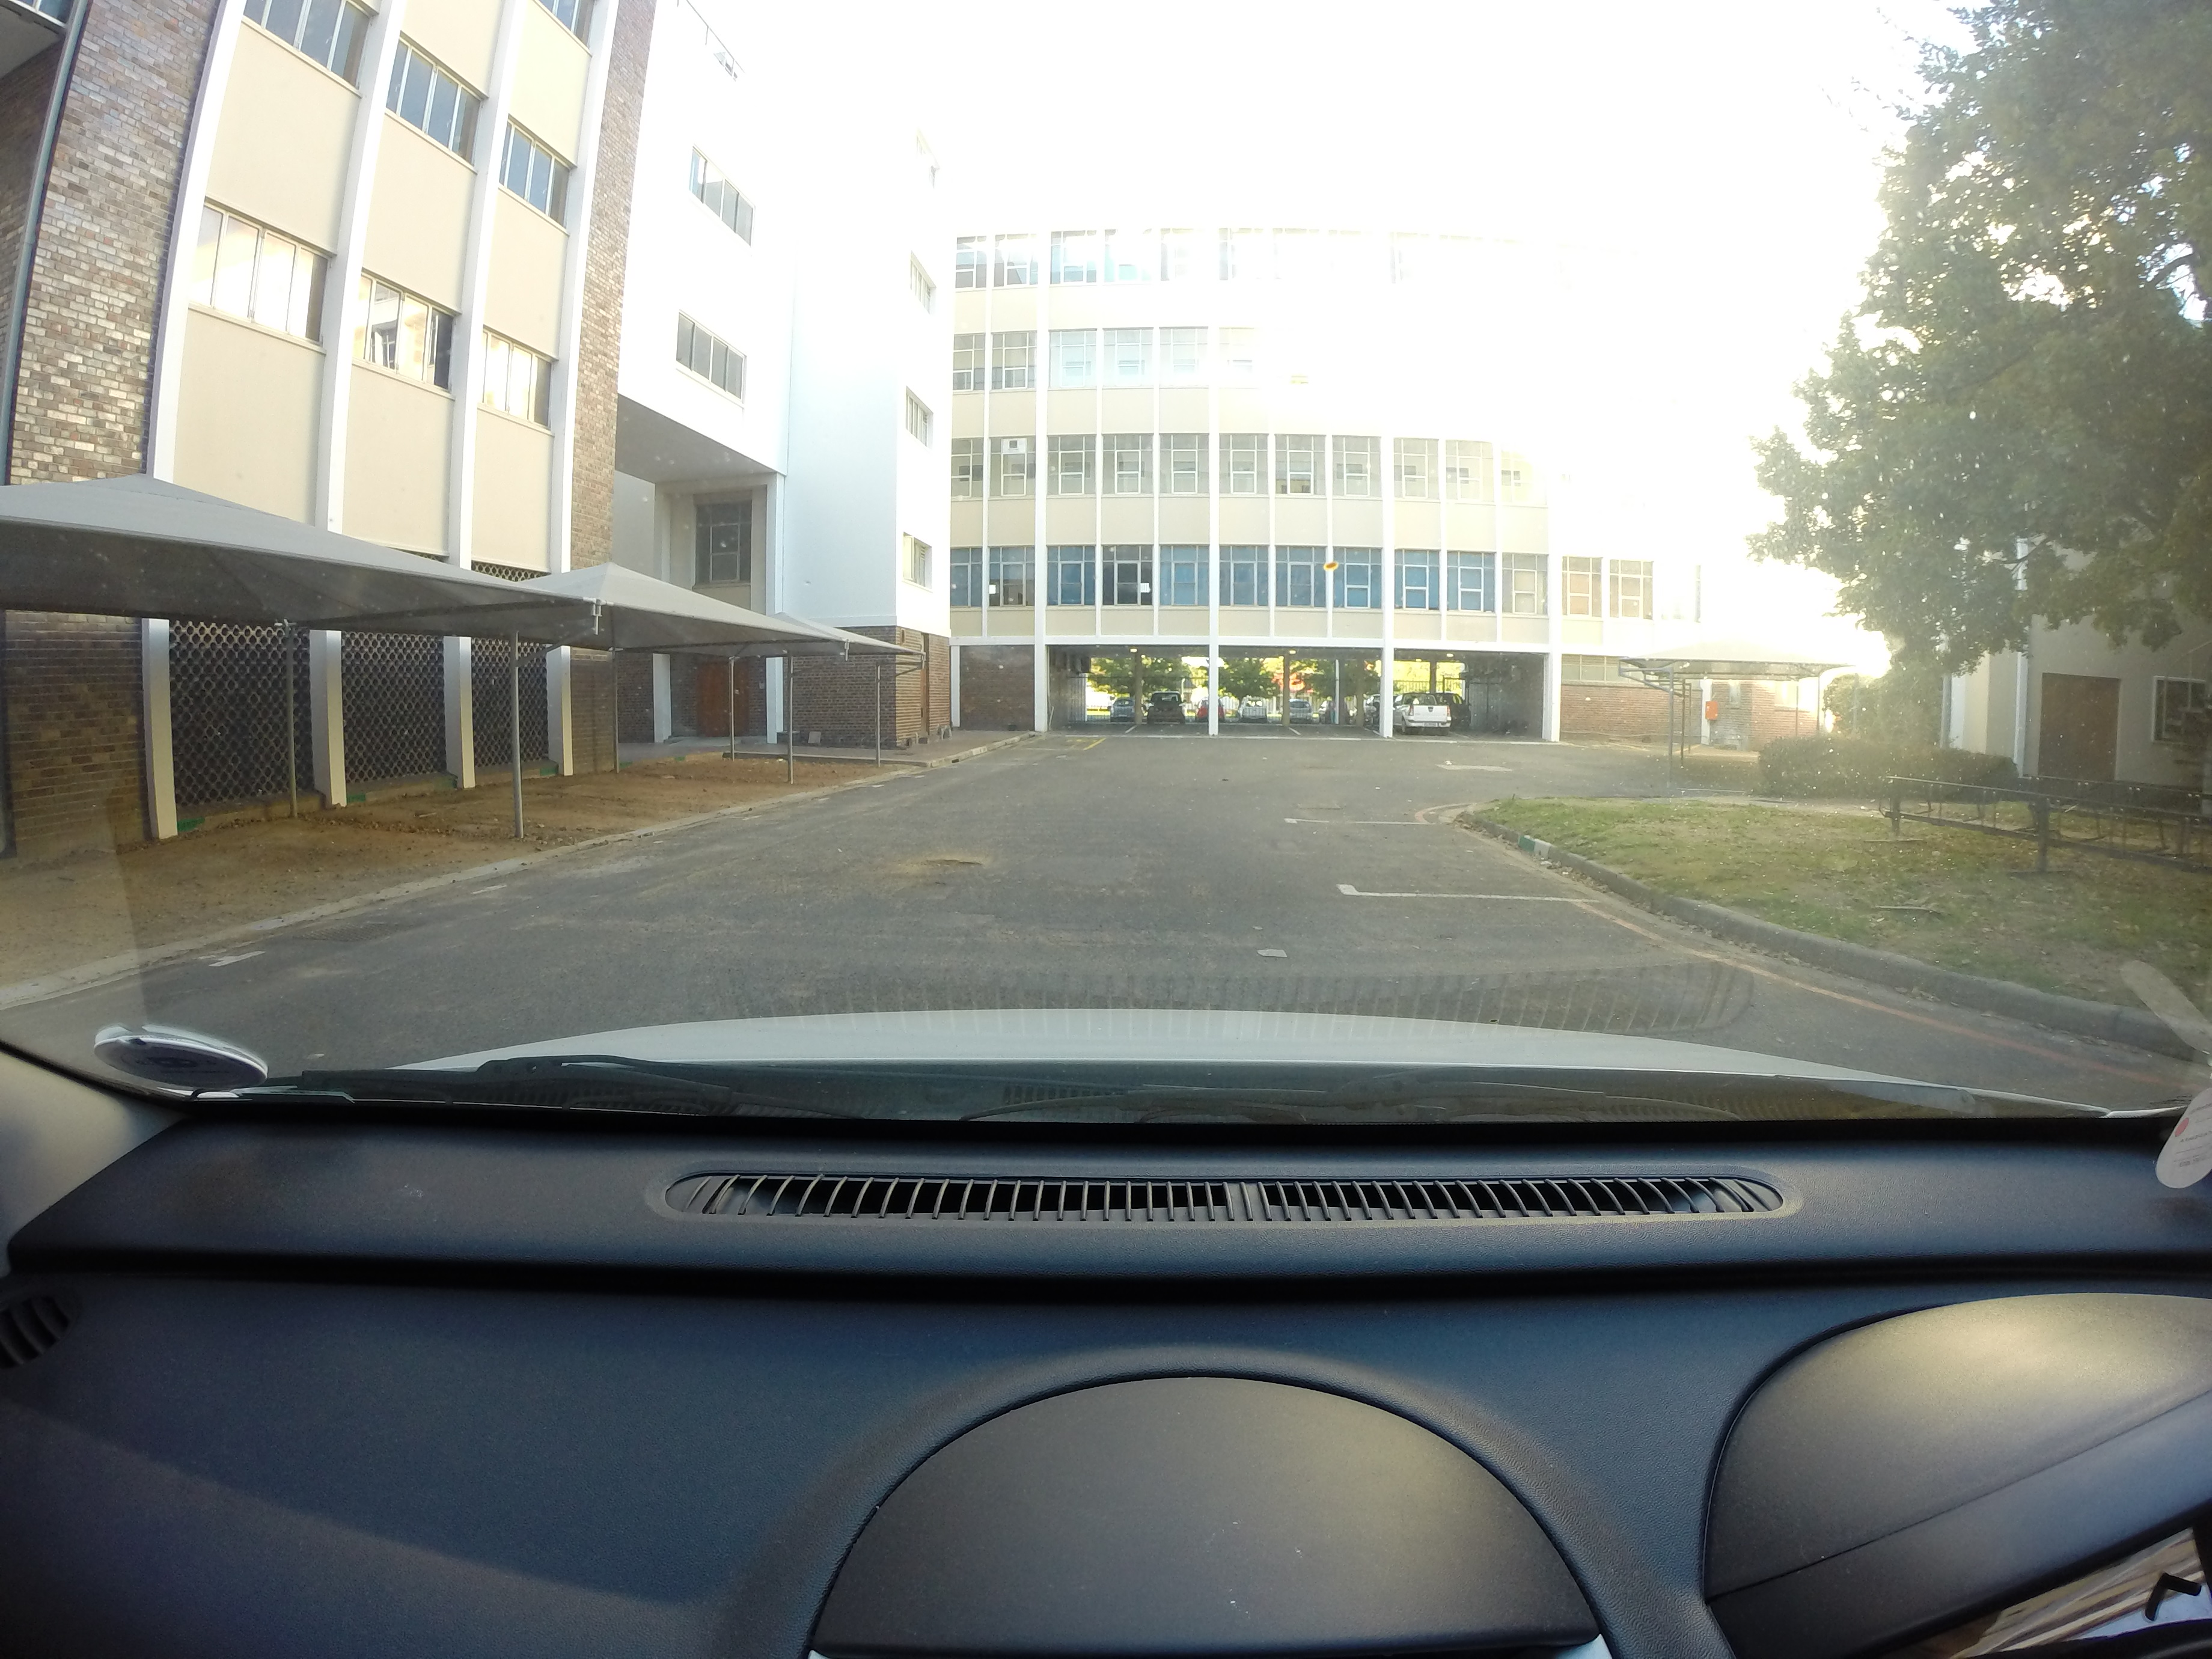pothole: (913, 861, 993, 877)
